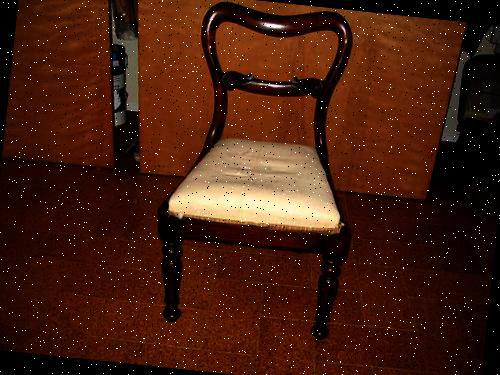Silla: (143, 0, 375, 346)
